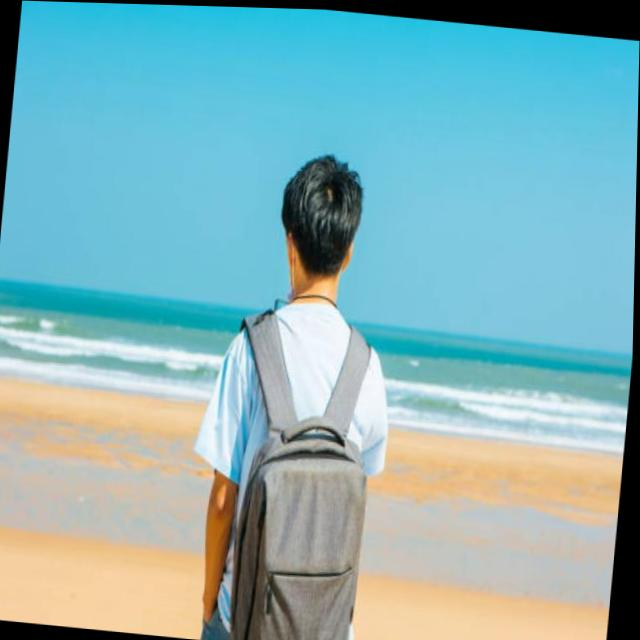no helmet: (263, 140, 375, 289)
